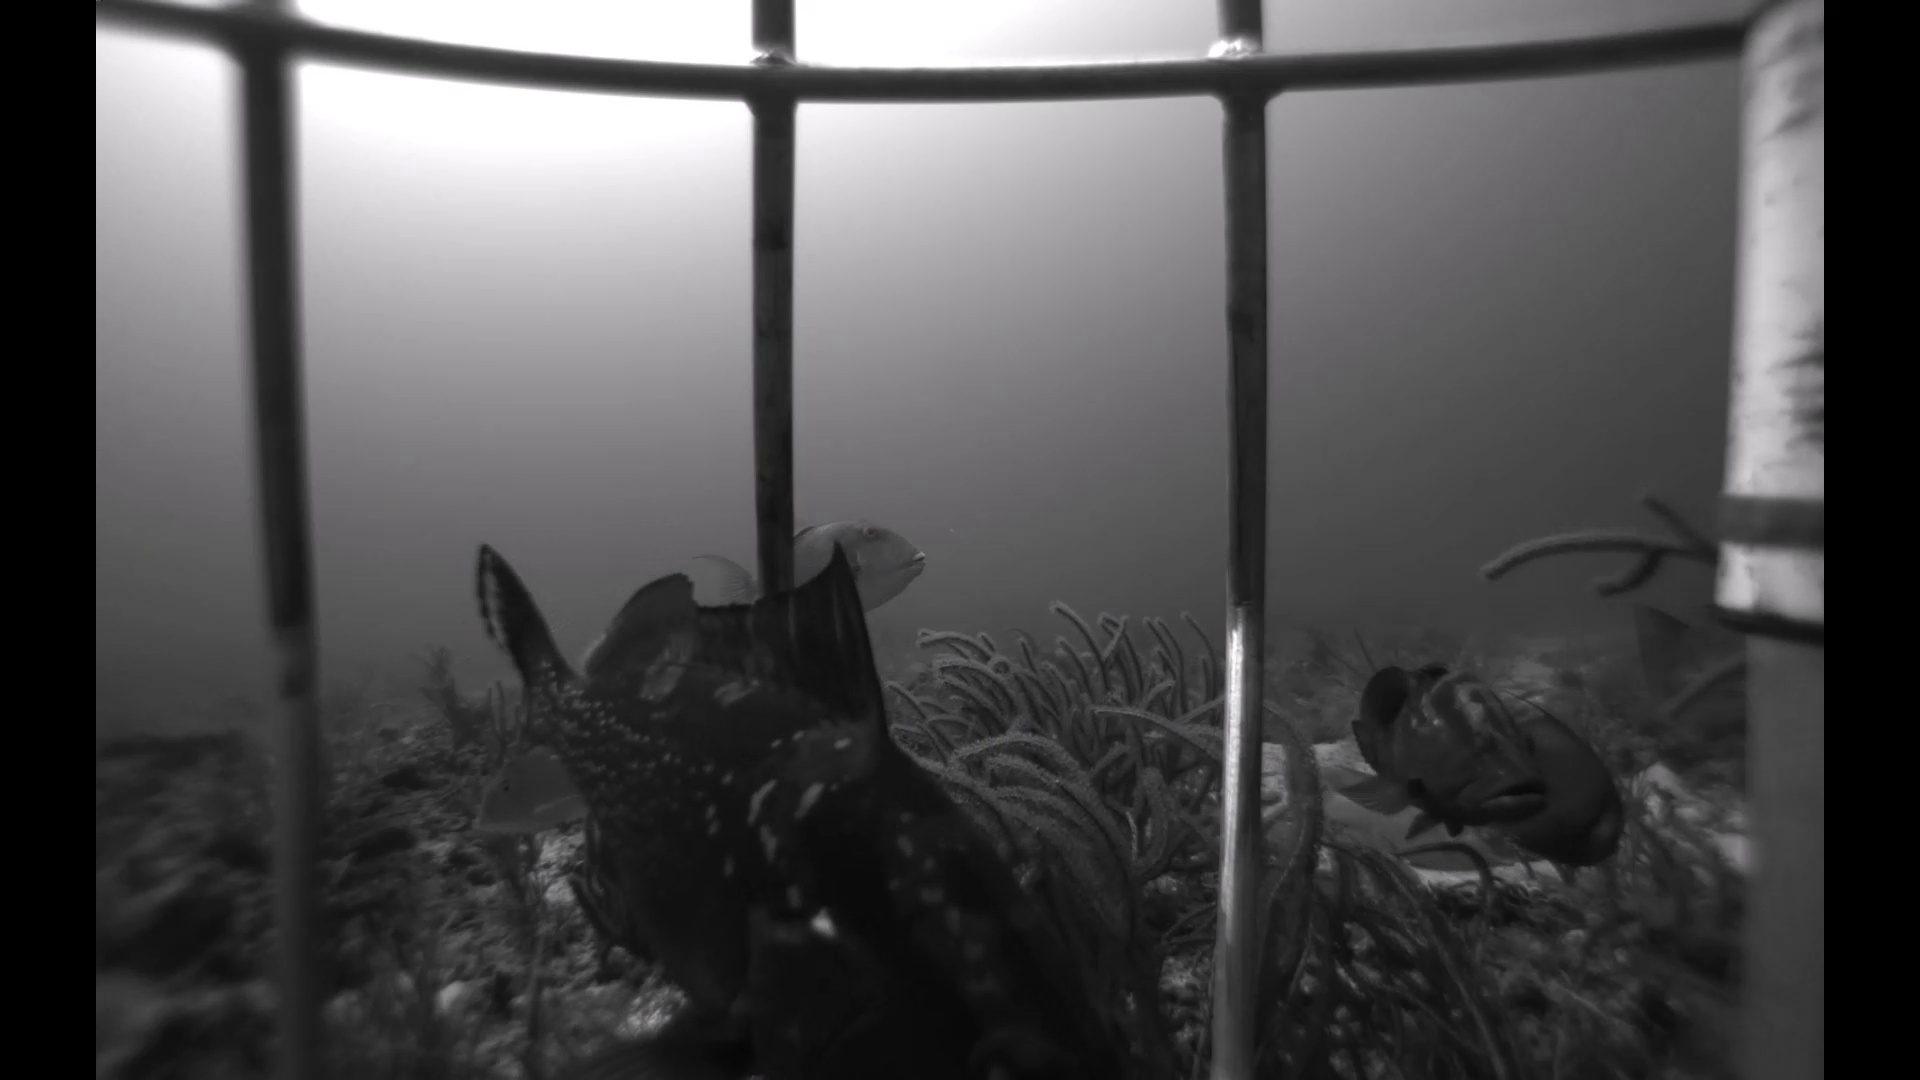BALISTESCAPRISCUS-189030502: (666, 493, 936, 612)
CALAMUSNODOSUS-170210608: (463, 733, 599, 843)
EPINEPHELUSMORIO-170021211: (444, 501, 1174, 1080), (1336, 647, 1556, 852)
LACHNOLAIMUSMAXIMUS-170281801: (1276, 750, 1514, 882)
LUTJANUSGRISEUS-170151109: (1613, 595, 1746, 725)
POMACANTHUSARCUATUS-170290201: (1486, 673, 1630, 876)
